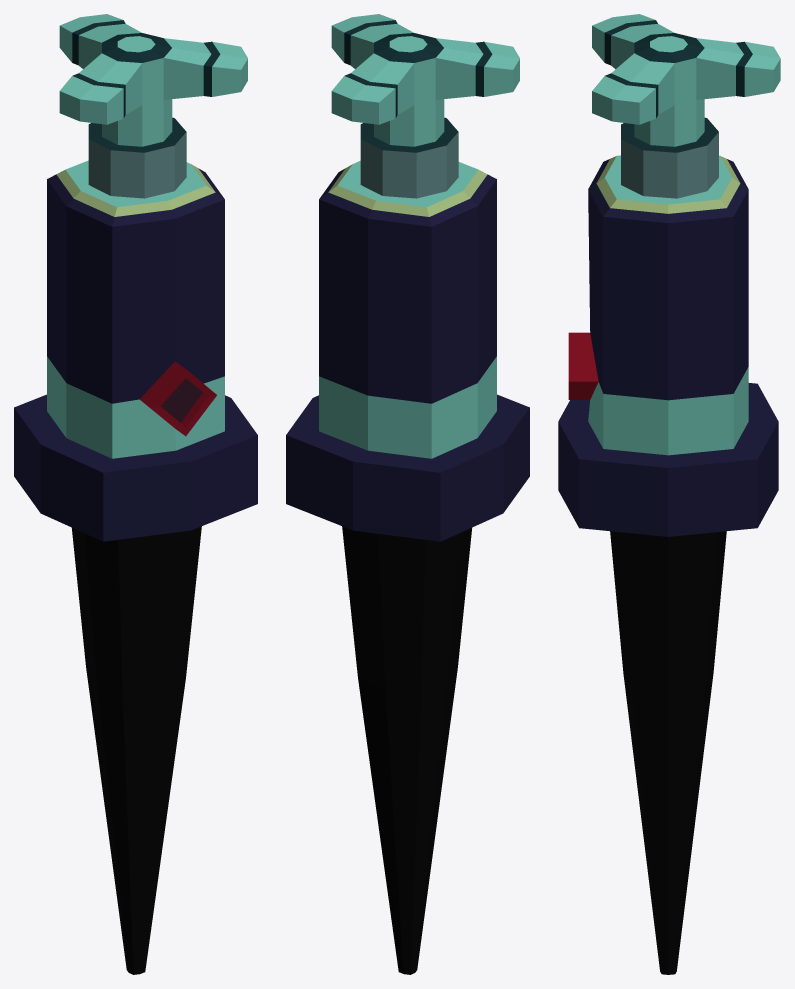
File: irrigator.fbx
The picture shows the model from 3 angles, left to right: view 1: azimuth 30°, elevation 25°; view 2: azimuth 150°, elevation 25°; view 3: azimuth 270°, elevation 25°; orthographic projection.
Visible parts, largest first — view 1: irrigator, irrigator_top_mesh; view 2: irrigator, irrigator_top_mesh; view 3: irrigator, irrigator_top_mesh.
Part boxes in pixels (x1,y1,x2,y2): irrigator: (14, 160, 257, 974); irrigator_top_mesh: (59, 14, 247, 198); irrigator: (286, 160, 529, 974); irrigator_top_mesh: (331, 14, 519, 198); irrigator: (558, 155, 778, 974); irrigator_top_mesh: (592, 14, 780, 198).
Bounding box in the file's own units: 39.79 × 185 × 40.16.
